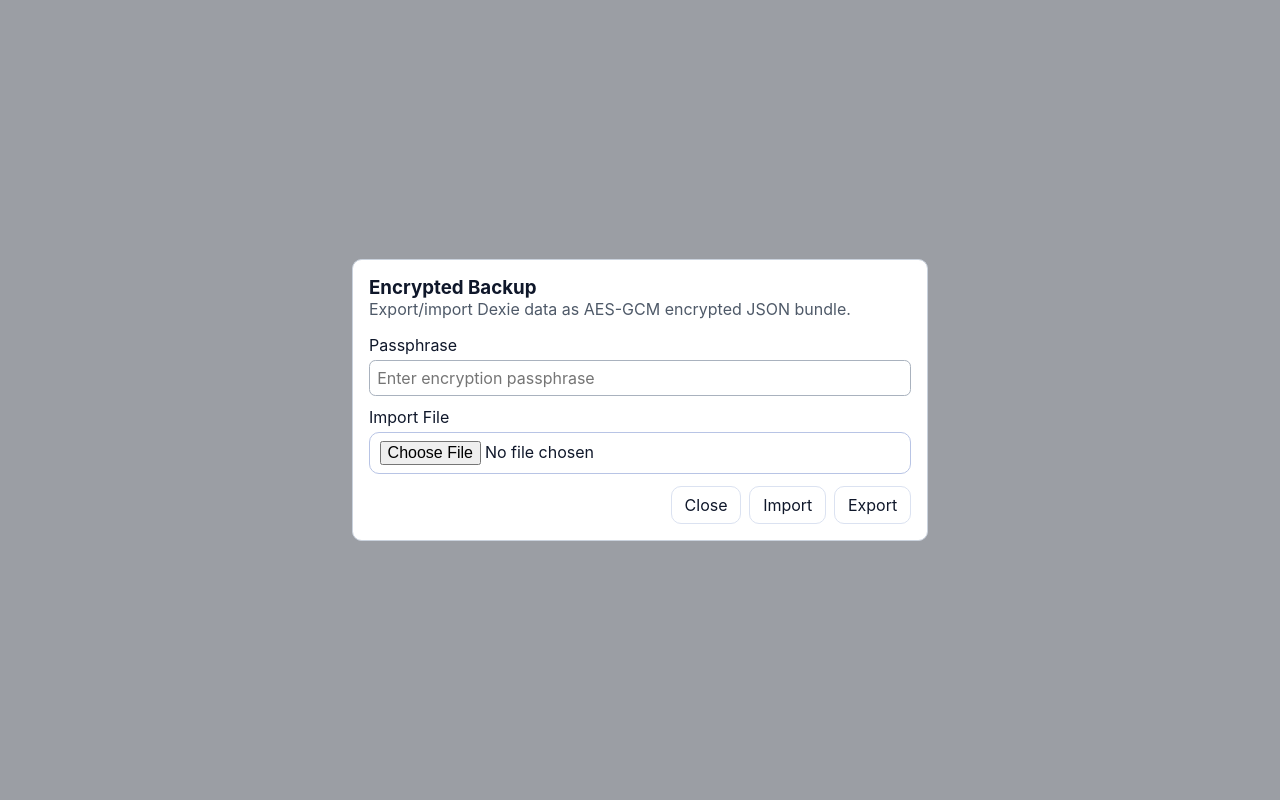
Test: <ExportModal /> › Export success: drives backupService.exportEncrypted, shows filename in status, enqueues success toast
In the password field with placeholder "Enter encryption passphrase": (640, 378) x1=369 y1=360 x2=911 y2=396, type "pw"
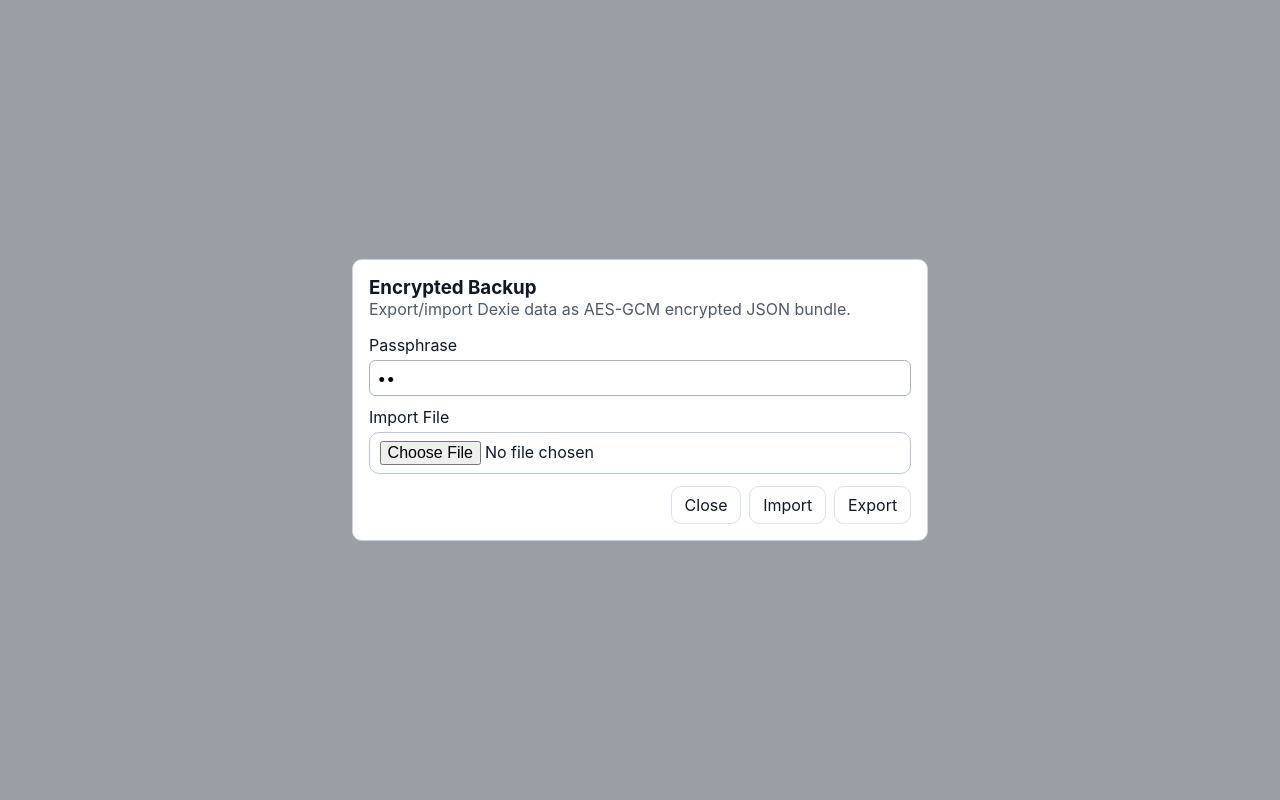
Click the button "Export": click(873, 506) x1=834 y1=486 x2=911 y2=524
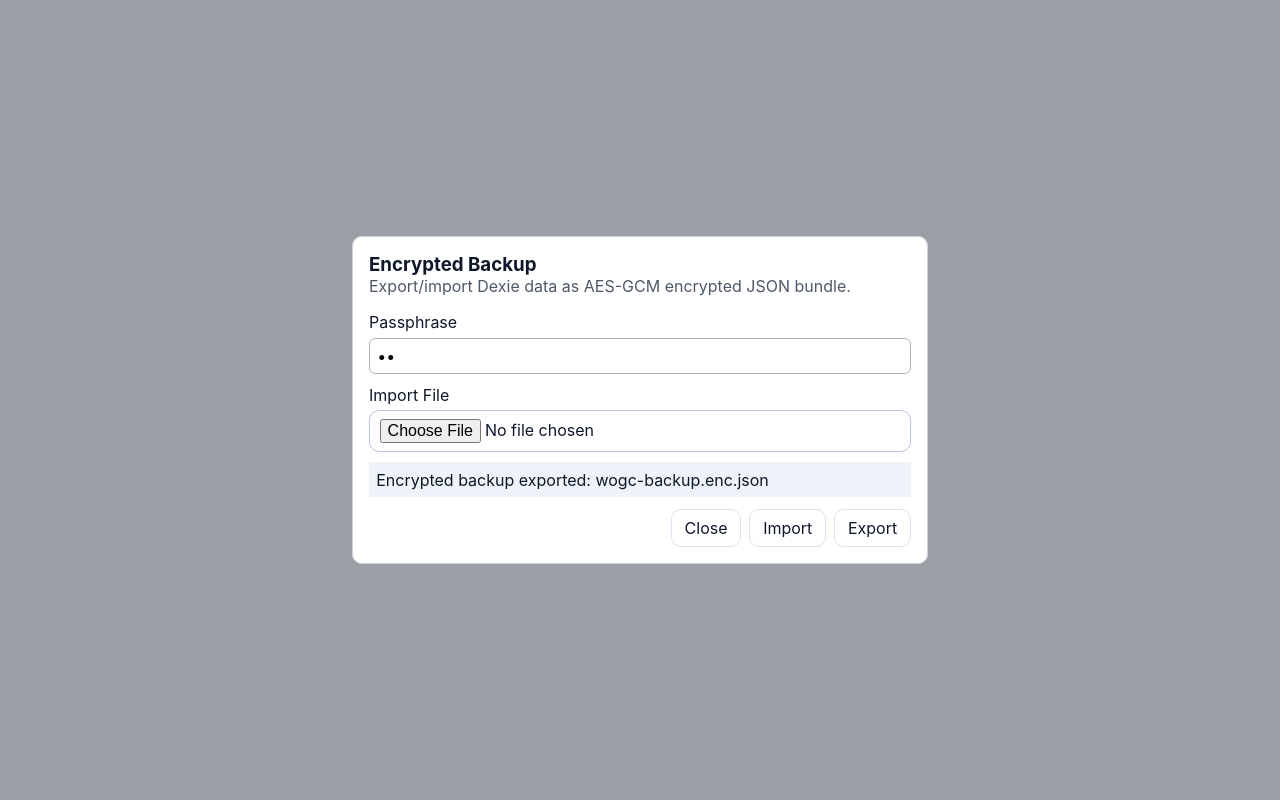
expect the text "Encrypted backup exported: wogc-backup.enc.json" is shown: met, box x1=369 y1=462 x2=911 y2=497
